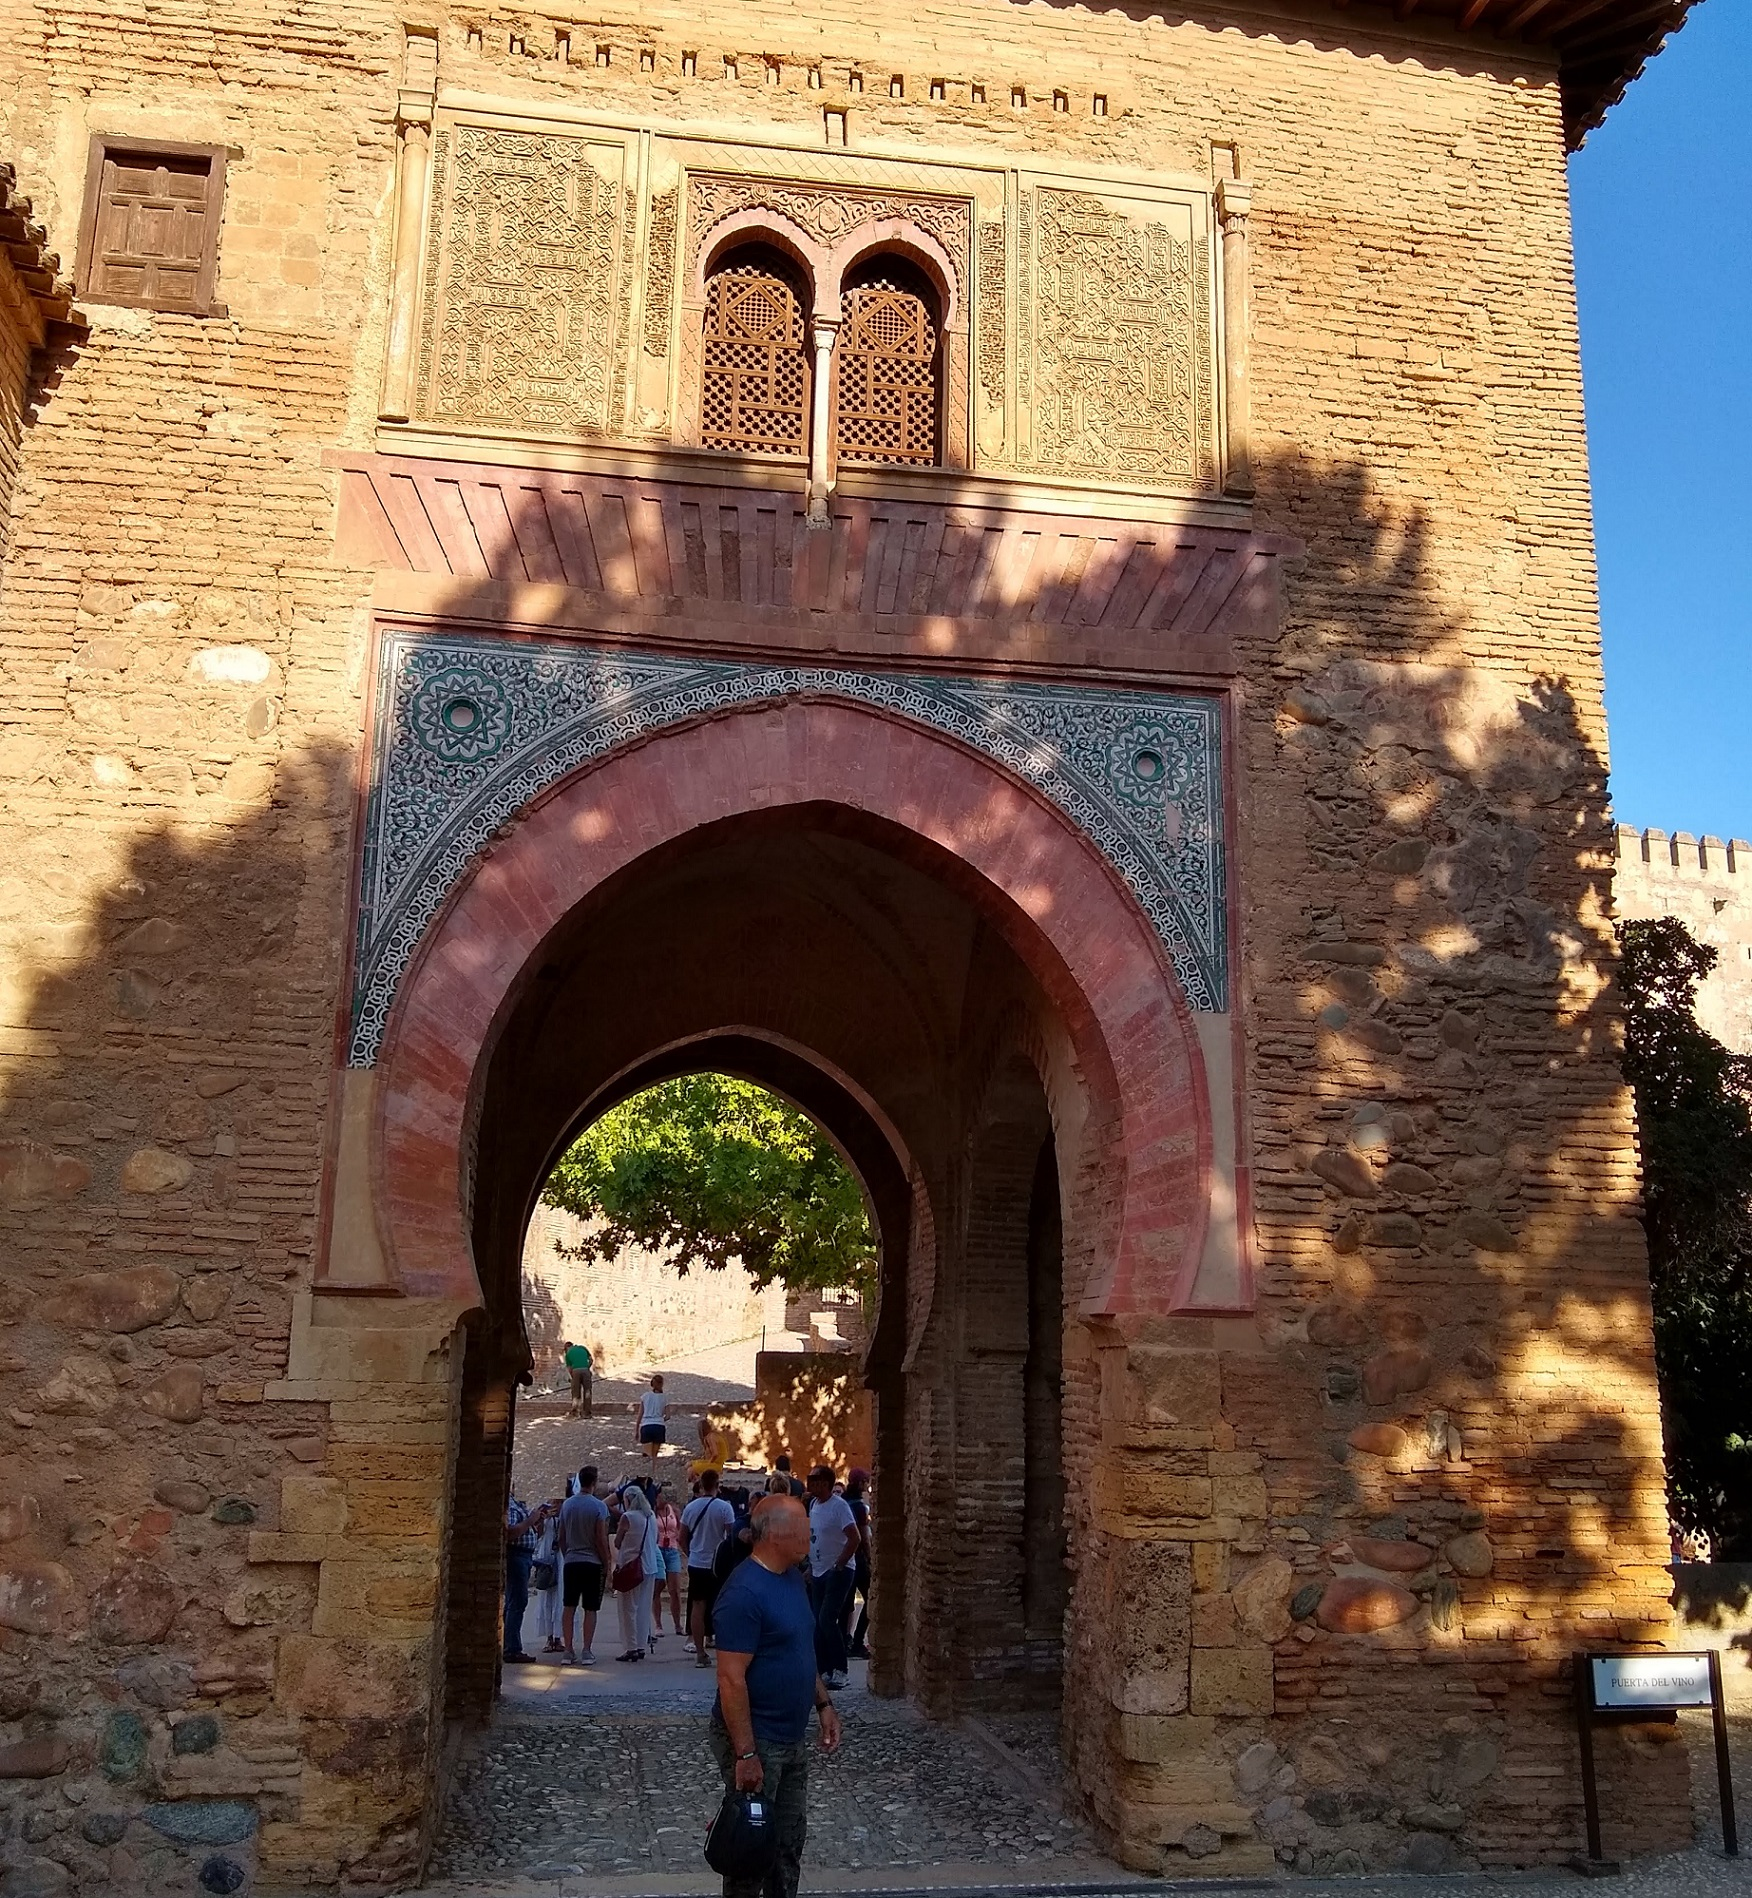arco-herradura: (425, 749, 1169, 1385), (693, 218, 825, 342), (828, 230, 960, 351)
dintel-adovelado: (337, 463, 1254, 655)
